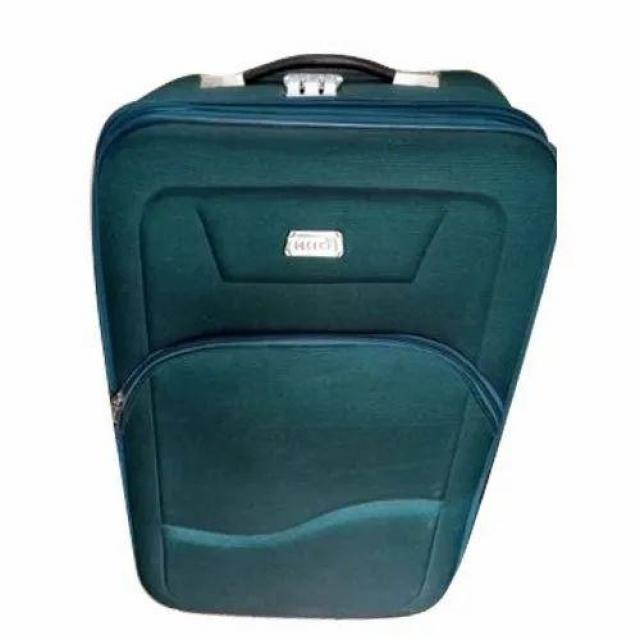luggage: (87, 48, 563, 626)
